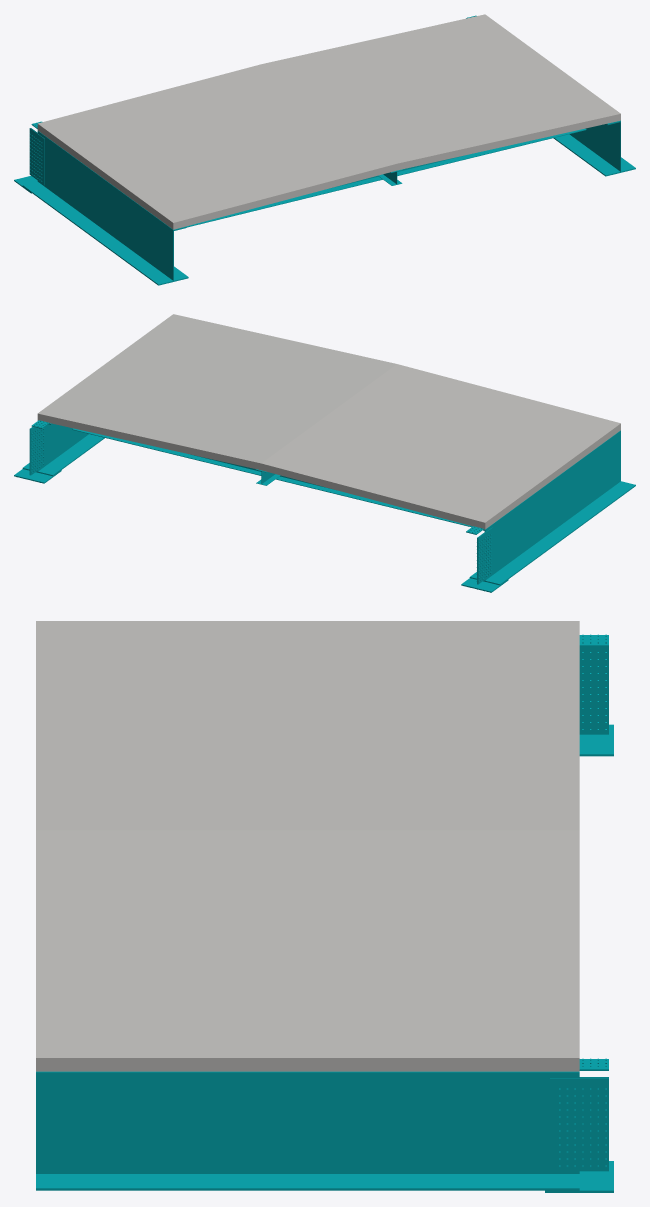
Rendered from DECK_KC.glb.
3 views of the same model, one above another, from view 1: azimuth 30°, elevation 25°; view 2: azimuth 150°, elevation 25°; view 3: azimuth 270°, elevation 25° (orthographic). The views are drawn at different scales.
Visible parts, largest first — view 1: KC_Slab_11, KC_G_W_0, KC_G_E_1, KC_FB_bf_10, KC_SpliceW_13; view 2: KC_Slab_11, KC_G_W_0, KC_G_E_1, KC_FB_bf_6, KC_SpliceW_13, KC_SpliceW_21; view 3: KC_Slab_11, KC_G_E_1, KC_SpliceW_22, KC_SpliceW_14, KC_SpliceB_23, KC_SpliceB_15.
Boxes of the visible parts, <box> form: KC_Slab_11: <box>37,14,620,229</box>; KC_G_W_0: <box>22,131,188,285</box>; KC_G_E_1: <box>553,120,635,176</box>; KC_FB_bf_10: <box>186,128,586,227</box>; KC_SpliceW_13: <box>29,128,44,185</box>; KC_Slab_11: <box>37,314,620,529</box>; KC_G_W_0: <box>469,430,635,585</box>; KC_G_E_1: <box>22,420,104,476</box>; KC_FB_bf_6: <box>72,428,471,527</box>; KC_SpliceW_13: <box>477,527,492,584</box>; KC_SpliceW_21: <box>30,426,45,475</box>; KC_Slab_11: <box>36,621,579,1071</box>; KC_G_E_1: <box>36,1071,579,1190</box>; KC_SpliceW_22: <box>550,1078,608,1171</box>; KC_SpliceW_14: <box>579,647,608,734</box>; KC_SpliceB_23: <box>545,1161,613,1192</box>; KC_SpliceB_15: <box>579,724,613,756</box>.
Bounding box in the file's own units: 18.26 × 2.39 × 9.57.
